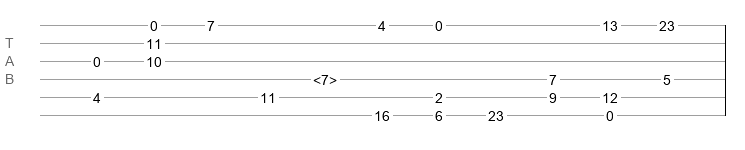0: (93, 54, 101, 64), (150, 18, 158, 28), (435, 18, 443, 28), (606, 108, 614, 118)
10: (146, 54, 162, 64)
11: (146, 36, 162, 46), (260, 90, 276, 100)
12: (602, 90, 618, 100)
13: (602, 18, 618, 28)
16: (374, 108, 390, 118)
2: (435, 90, 443, 100)
23: (488, 108, 504, 118), (659, 18, 675, 28)
4: (93, 90, 101, 100), (378, 18, 386, 28)
5: (663, 72, 671, 82)
6: (435, 108, 443, 118)
7: (207, 18, 215, 28), (549, 72, 557, 82)
9: (549, 90, 557, 100)
harmonic: (313, 72, 337, 82)
